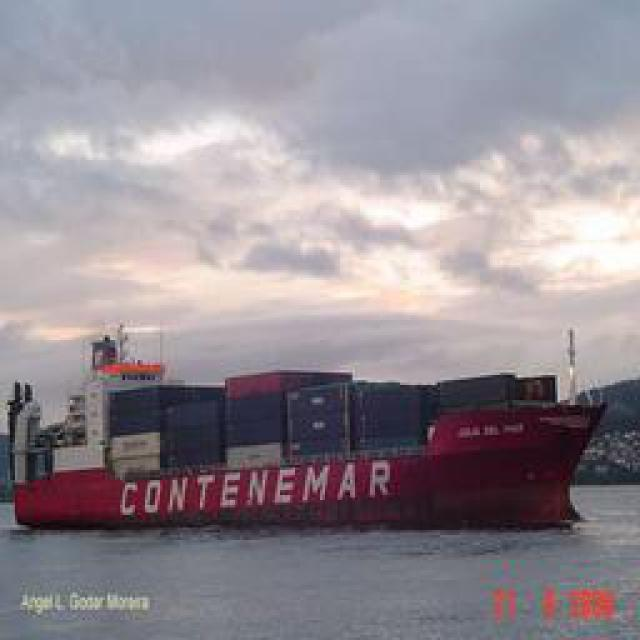Ship: (15, 370, 618, 533)
